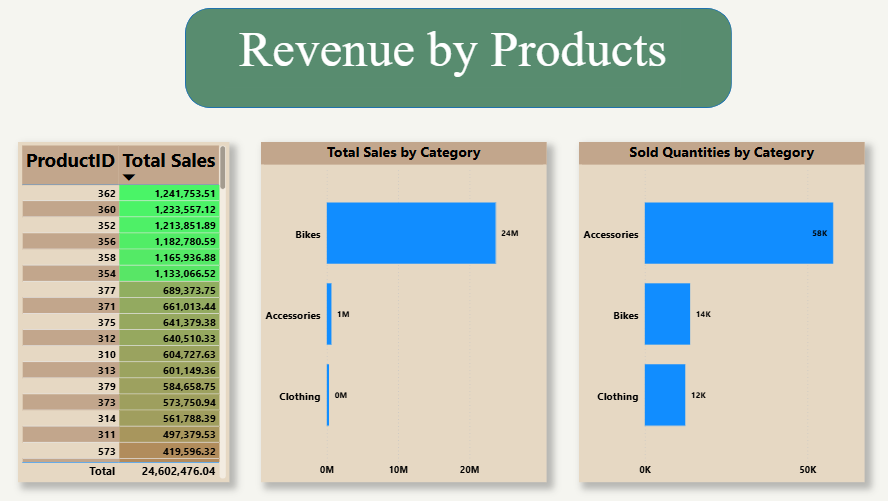

What the dashboard file says about the page in this screenshot:
{"tool":"powerbi","page":{"name":"Sales by Products(1)","canvas":[1280,720],"ordinal":4},"visuals":[{"type":"shape","box":[268.6,12.9,781.4,142.9],"z":0,"group":"g1"},{"type":"tableEx","fields":{"Values":["SALES.ProductID","AllMeasures.Total Sales"]},"box":[30.4,203.8,302.1,486.3],"z":0},{"type":"textbox","box":[325.5,25.1,650.9,100.6],"z":1000,"group":"g1"},{"type":"barChart","title":"Total Sales by Category","fields":{"Category":["SALES.CategoryName","SALES.SubcategoryName","SALES.ModelName","SALES.ProductID"],"Y":["AllMeasures.Total Sales"]},"box":[377.2,203.8,407.6,486.3],"z":1000},{"type":"barChart","title":"Sold Quantities by Category","fields":{"Category":["SALES.CategoryName","SALES.SubcategoryName","SALES.ModelName","SALES.ProductID"],"Y":["Sum(SALES.OrderQuantity)"]},"box":[831.3,203.8,407.6,486.3],"z":2000},{"type":"group","id":"g1","title":"Group 1","box":[268.6,12.9,781.4,142.9],"z":3000}]}

Visuals, with their boxes in screenshot pixels (x1, y1, x2, y2), scaled from the page's 1280x720 canvas onto the 888x501 screenshot:
shape: x1=186 y1=9 x2=728 y2=108
tableEx - SALES.ProductID x AllMeasures.Total Sales: x1=21 y1=142 x2=231 y2=480
textbox: x1=226 y1=17 x2=677 y2=87
"Total Sales by Category" barChart: x1=262 y1=142 x2=544 y2=480
"Sold Quantities by Category" barChart: x1=577 y1=142 x2=859 y2=480
"Group 1" group: x1=186 y1=9 x2=728 y2=108
